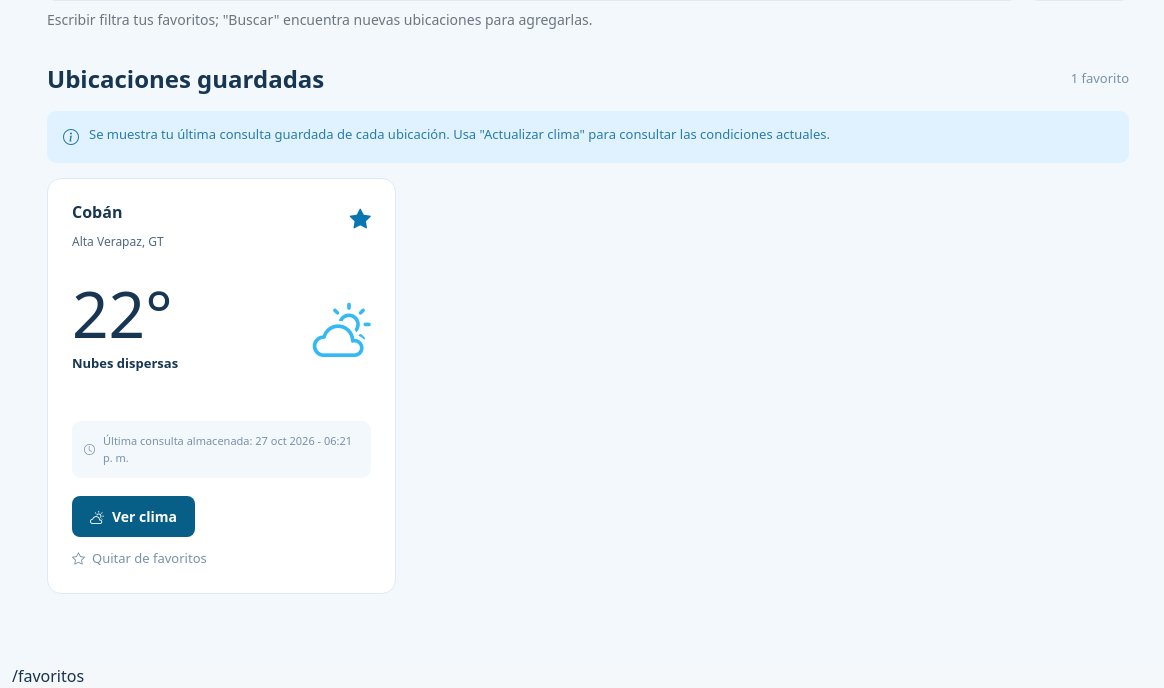
Test case: M07 – favoritos › Ver clima navega con idUbicacion
The width and height of the screenshot is (1164, 688).
(page scrolled)
Click the button "Ver clima".
click(134, 517)  # box [72, 496, 195, 537]
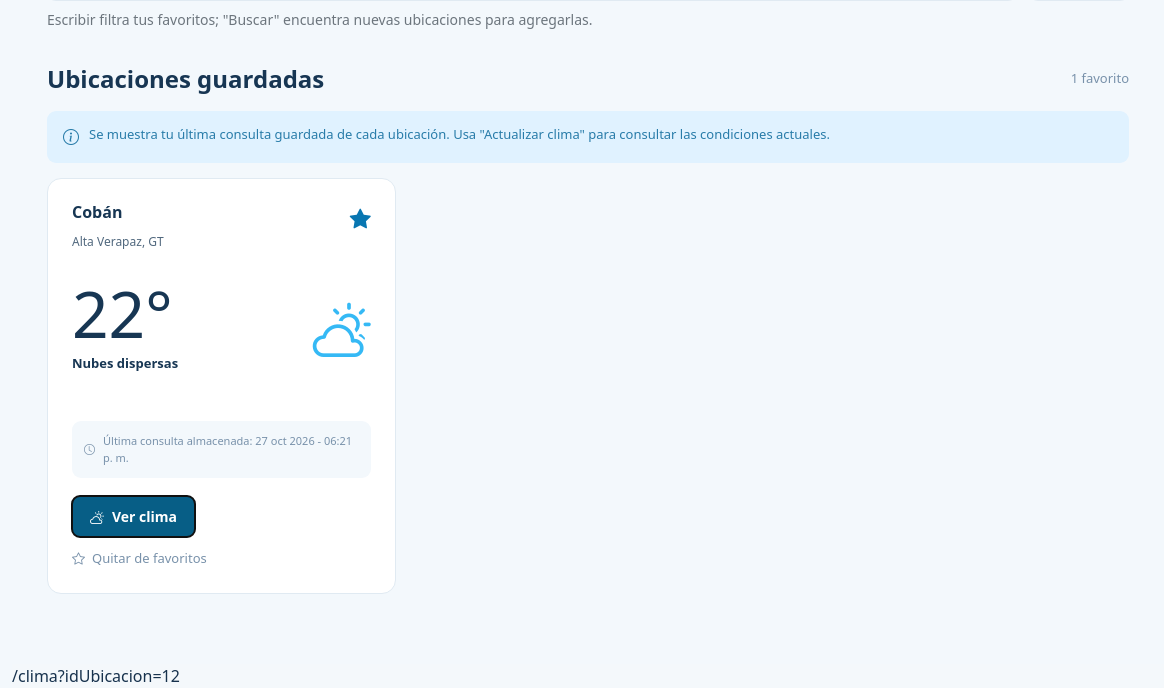
Check: the text with test id "ruta" reads "/clima?idUbicacion=12", box [12, 665, 180, 687]
